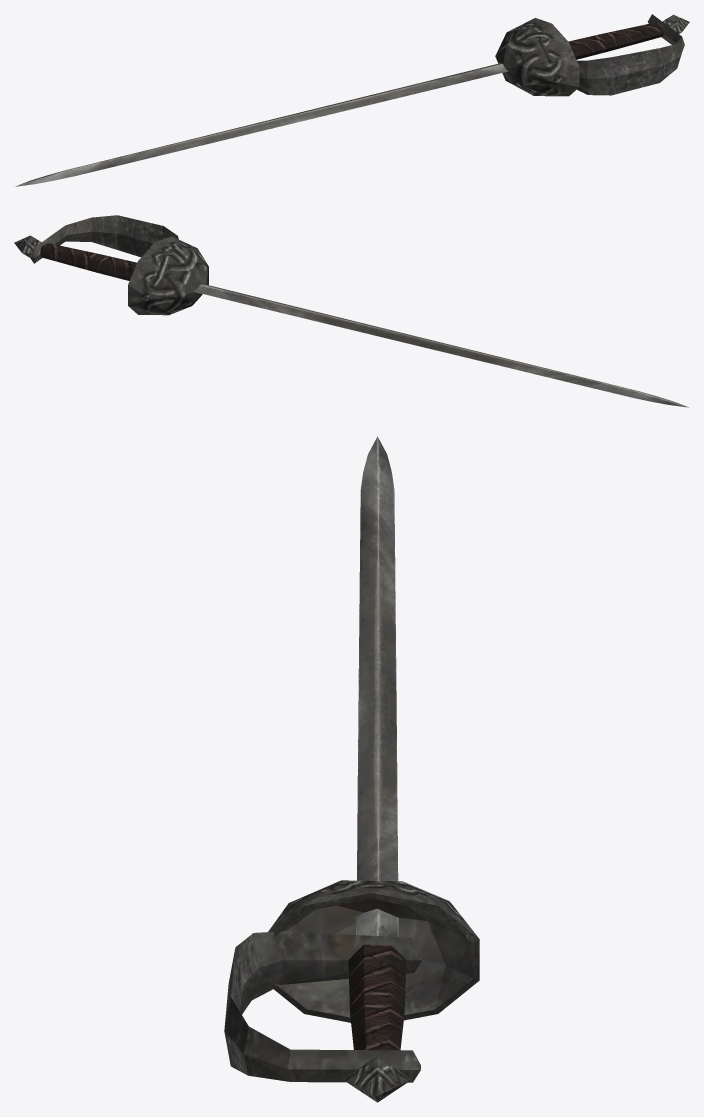
Rendered from ITMW_1H_DEXSWORD_04.glb.
3 views of the same model, one above another, from view 1: azimuth 30°, elevation 25°; view 2: azimuth 150°, elevation 25°; view 3: azimuth 270°, elevation 25° (orthographic). The views are drawn at different scales.
Visible parts, largest first — view 1: ITMW_1H_DEXSWORD_04; view 2: ITMW_1H_DEXSWORD_04; view 3: ITMW_1H_DEXSWORD_04.
Boxes of the visible parts, left/top/right/bottom form: ITMW_1H_DEXSWORD_04: left=14, top=14, right=689, bottom=186; ITMW_1H_DEXSWORD_04: left=14, top=215, right=688, bottom=407; ITMW_1H_DEXSWORD_04: left=224, top=436, right=479, bottom=1102.
Size of the model in its own units: 1.14 by 0.1076 by 0.186.
3 materials, 3 textured.
